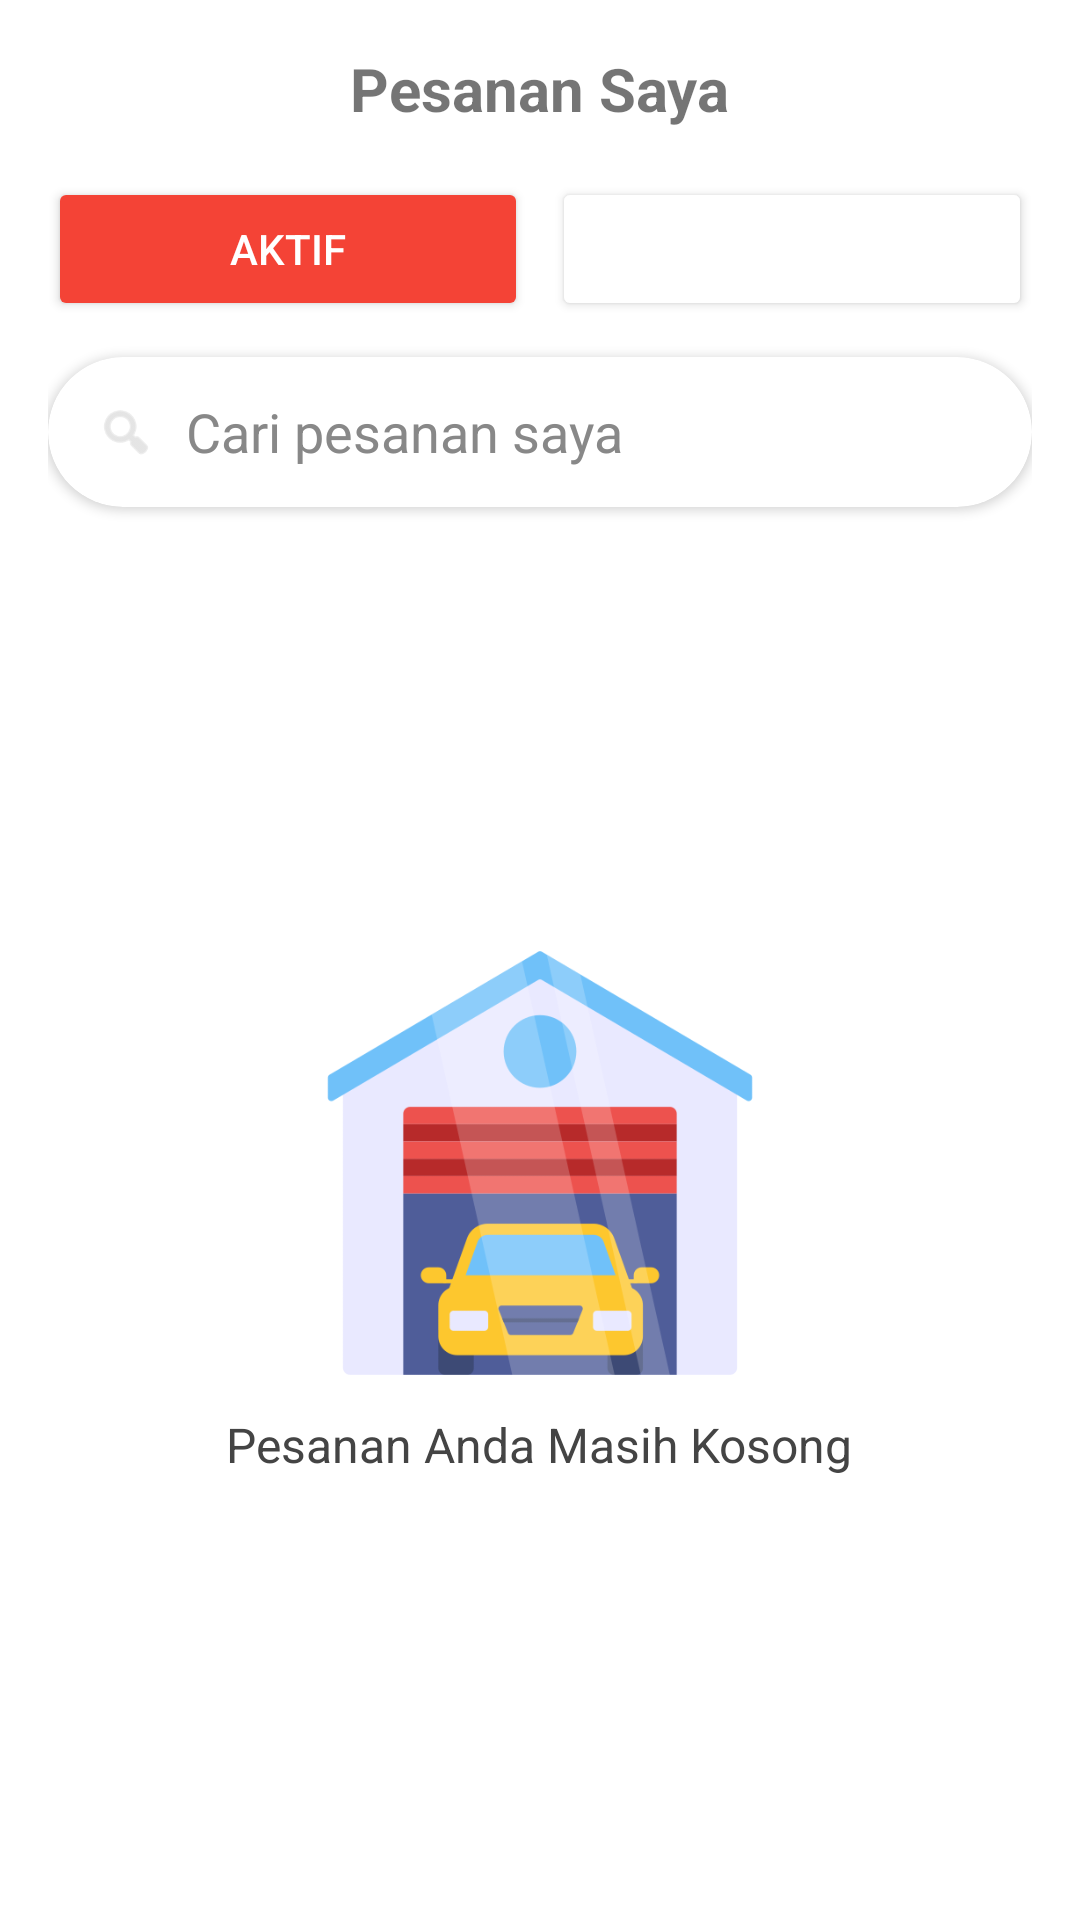

Screen size 1080x1920. Icon name, then its center in pixels as point (x, y):
search: point (126, 432)
